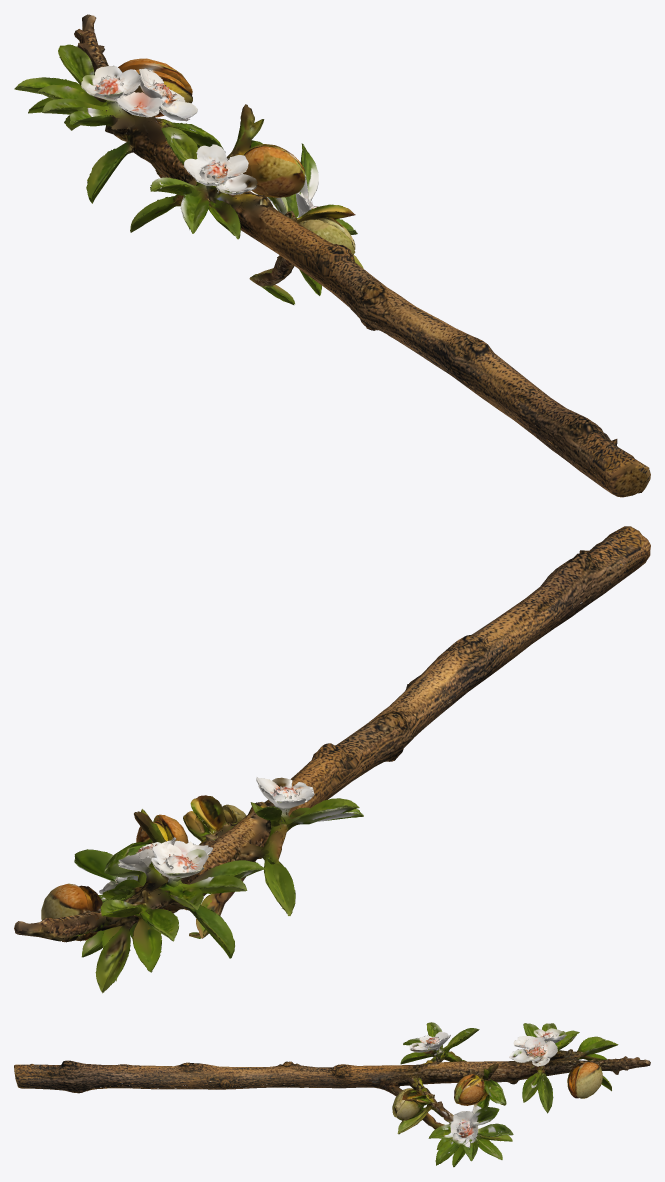
File: Budding_Rod_VR_1K.glb
The picture shows the model from 3 angles, top to bottom: view 1: azimuth 30°, elevation 25°; view 2: azimuth 150°, elevation 25°; view 3: azimuth 270°, elevation 25°; orthographic projection. The views are drawn at different scales.
Parts seen in each view (by area): view 1: Budding_Rod; view 2: Budding_Rod; view 3: Budding_Rod.
Part boxes in pixels (<box>): Budding_Rod: <box>14,14,650,497</box>; Budding_Rod: <box>14,526,650,993</box>; Budding_Rod: <box>14,1022,650,1167</box>.
Bounding box in the file's own units: 0.2924 × 0.2128 × 1.19.
Materials: 1 (1 with a texture image).
